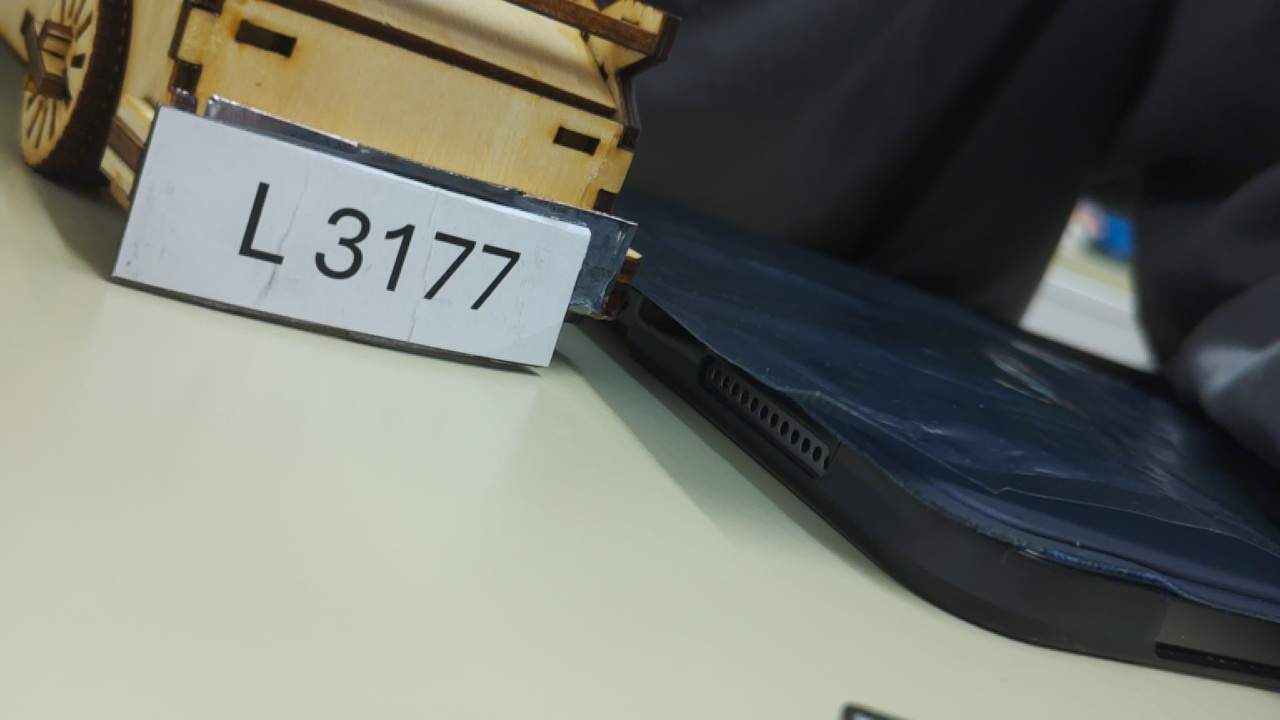license_plate: (97, 101, 598, 376)
